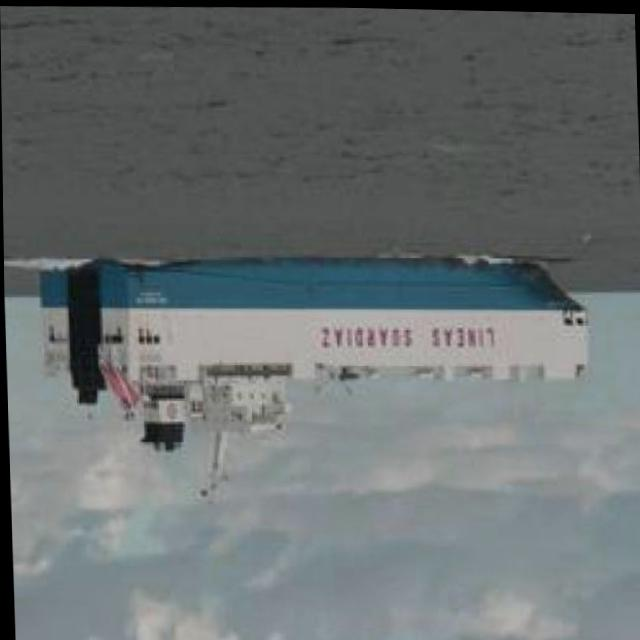ship2: (34, 256, 586, 509)
